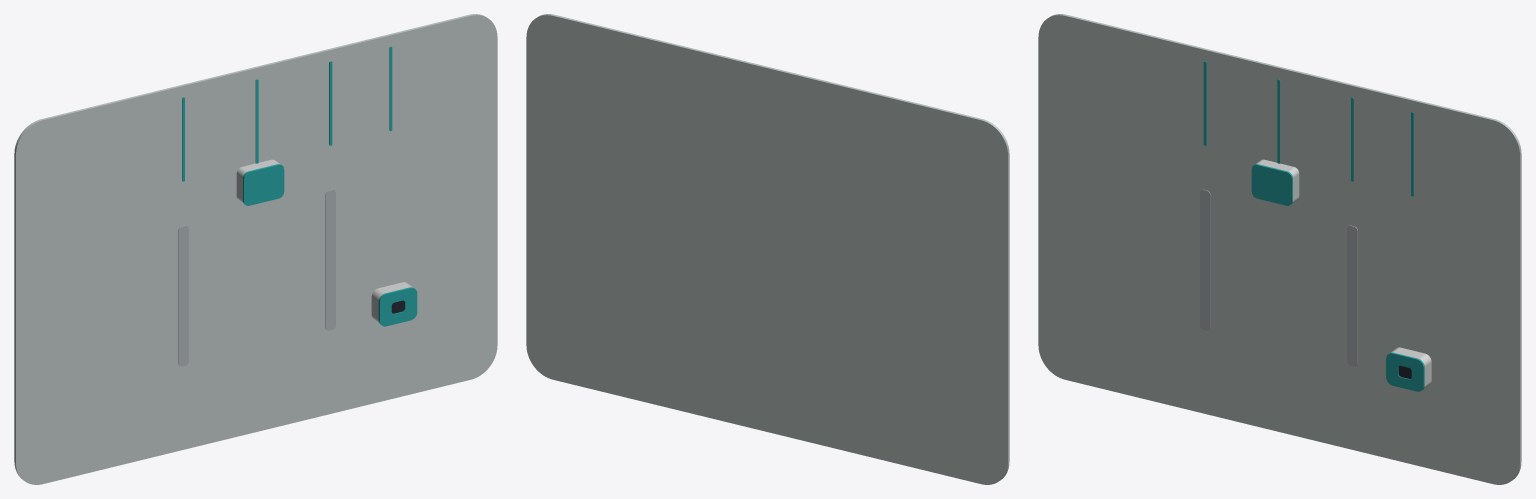
Rendered from textile_demo.glb.
3 views of the same model, side by side, from view 1: azimuth 30°, elevation 25°; view 2: azimuth 150°, elevation 25°; view 3: azimuth 330°, elevation 25° (orthographic).
Visible parts, largest first — view 1: textile_sample, moisture_strip_0, moisture_strip_1, IMU_lid, PPG_lid; view 2: textile_sample; view 3: textile_sample, moisture_strip_1, moisture_strip_0, IMU_lid, PPG_lid.
Part boxes in pixels (x1,y1,x2,y2): textile_sample: (14, 14, 497, 484); moisture_strip_0: (178, 225, 188, 366); moisture_strip_1: (325, 189, 335, 330); IMU_lid: (243, 164, 284, 205); PPG_lid: (378, 287, 417, 326); textile_sample: (526, 14, 1009, 484); textile_sample: (1038, 14, 1521, 484); moisture_strip_1: (1347, 225, 1357, 366); moisture_strip_0: (1200, 189, 1210, 330); IMU_lid: (1251, 164, 1292, 205); PPG_lid: (1386, 352, 1424, 391).
Size of the model in its own units: 0.36 by 0.26 by 0.0125.
